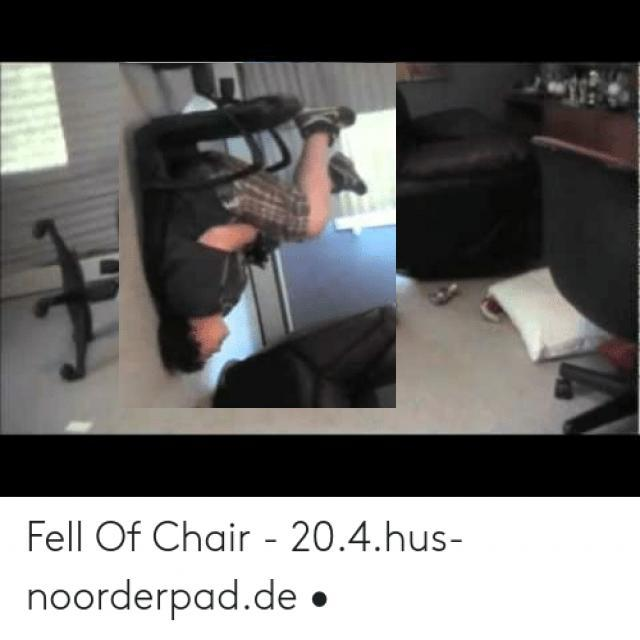Fall: (136, 103, 373, 366)
